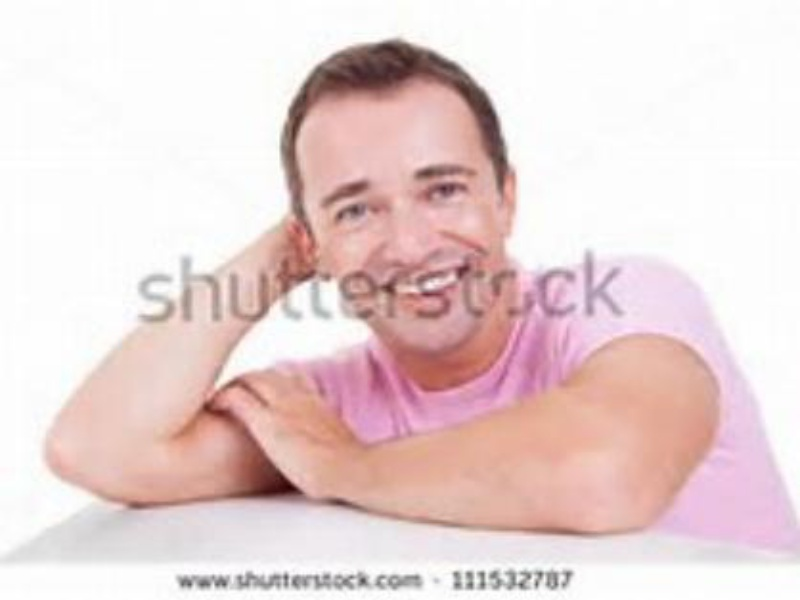TsisyArotava: (270, 33, 547, 377)
